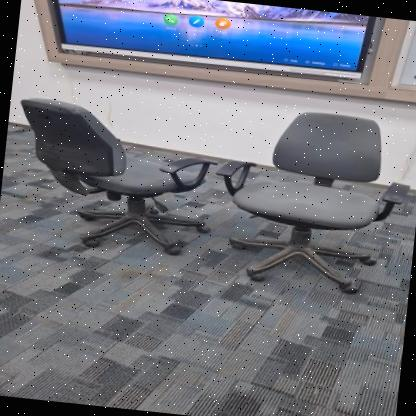chair: (205, 94, 416, 309), (0, 83, 228, 266)
